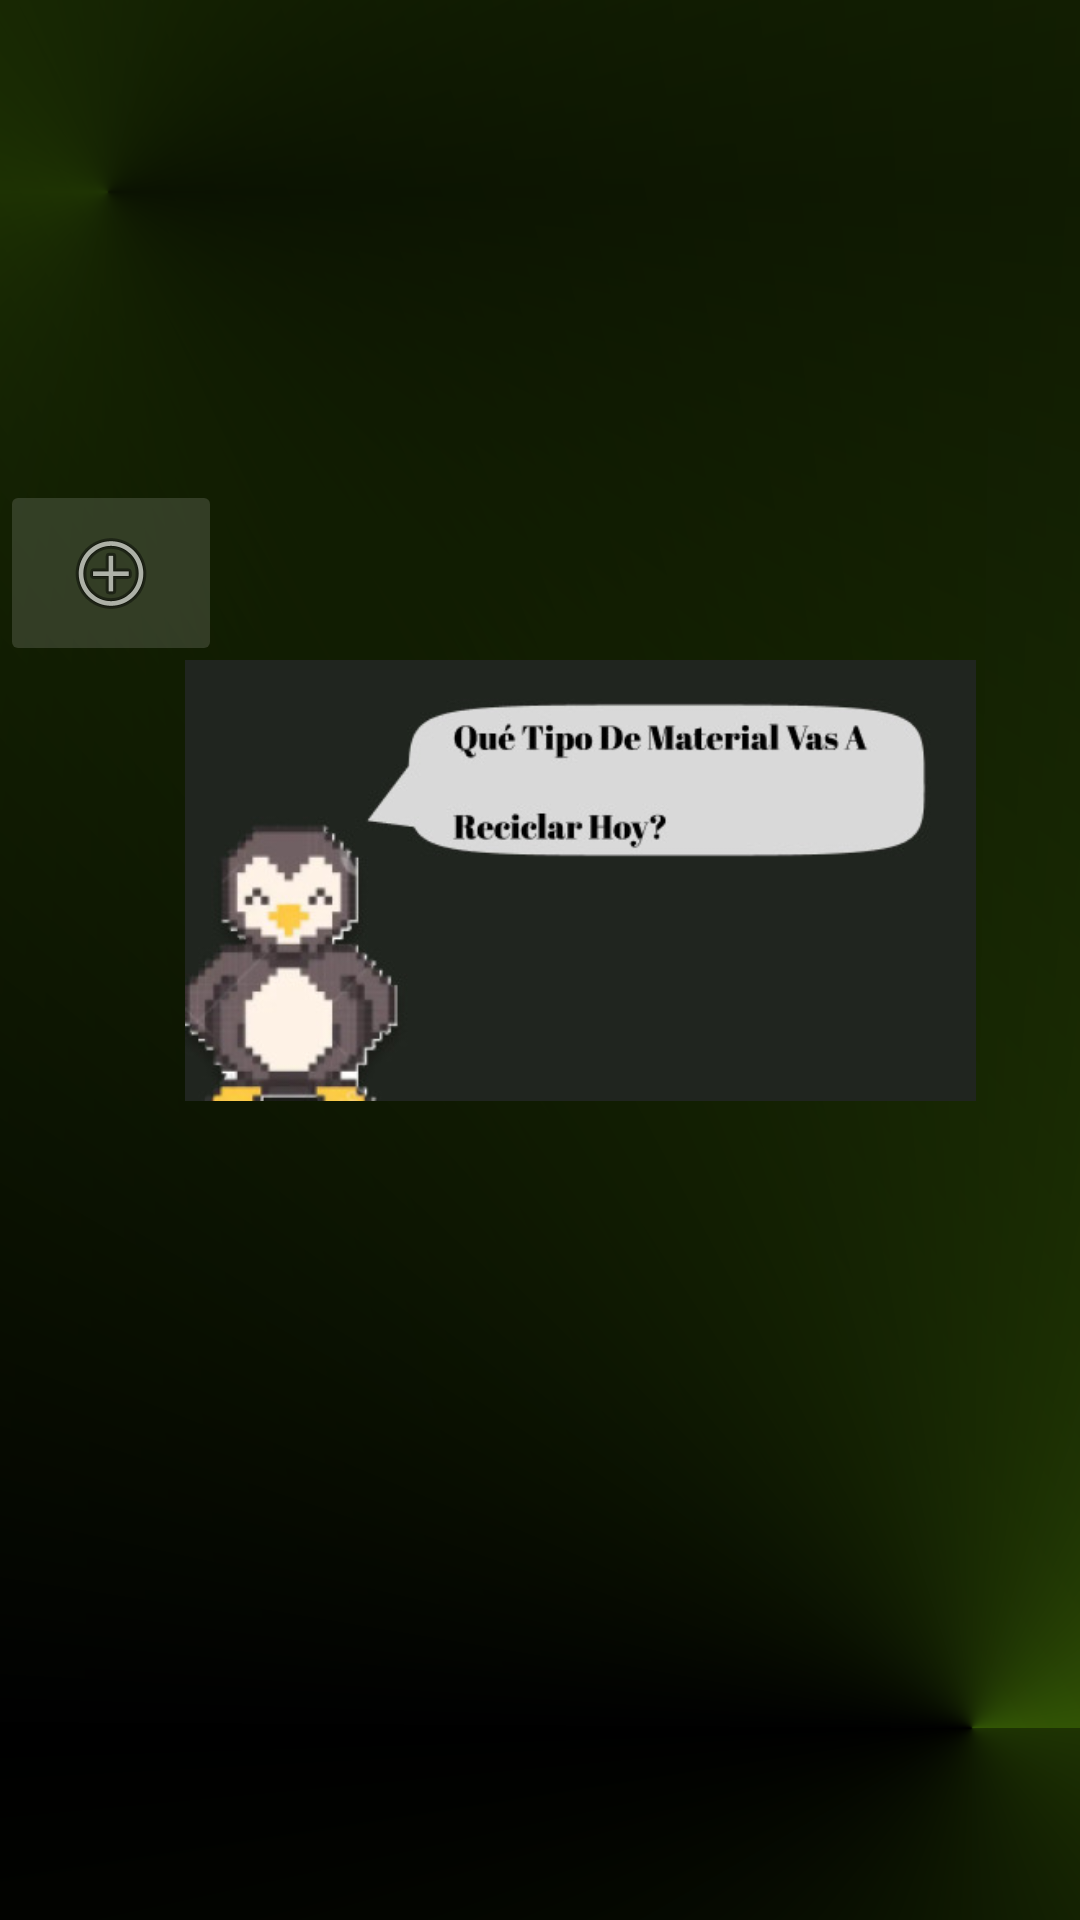

Point at icon controls on the screen. Image size 1080 x 1920, points as (x=x, y=y).
iconosumar: (x=111, y=573)
